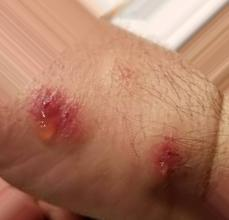Spider: (23, 78, 93, 157), (144, 133, 187, 182)
